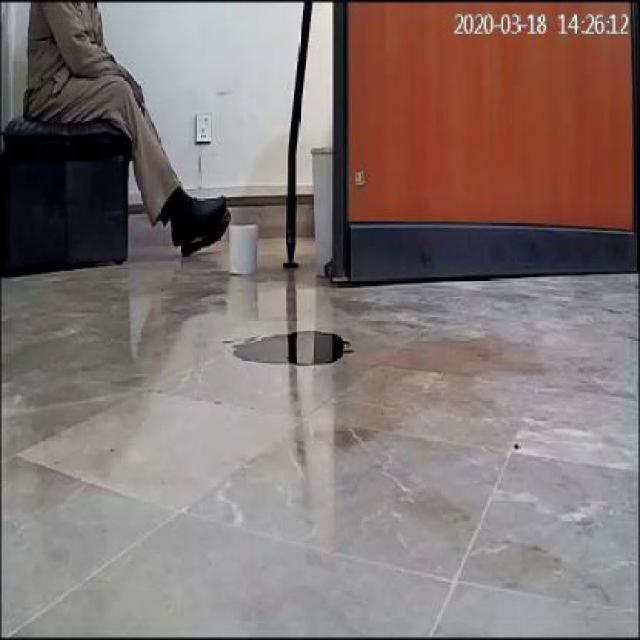spill: (230, 326, 358, 364)
